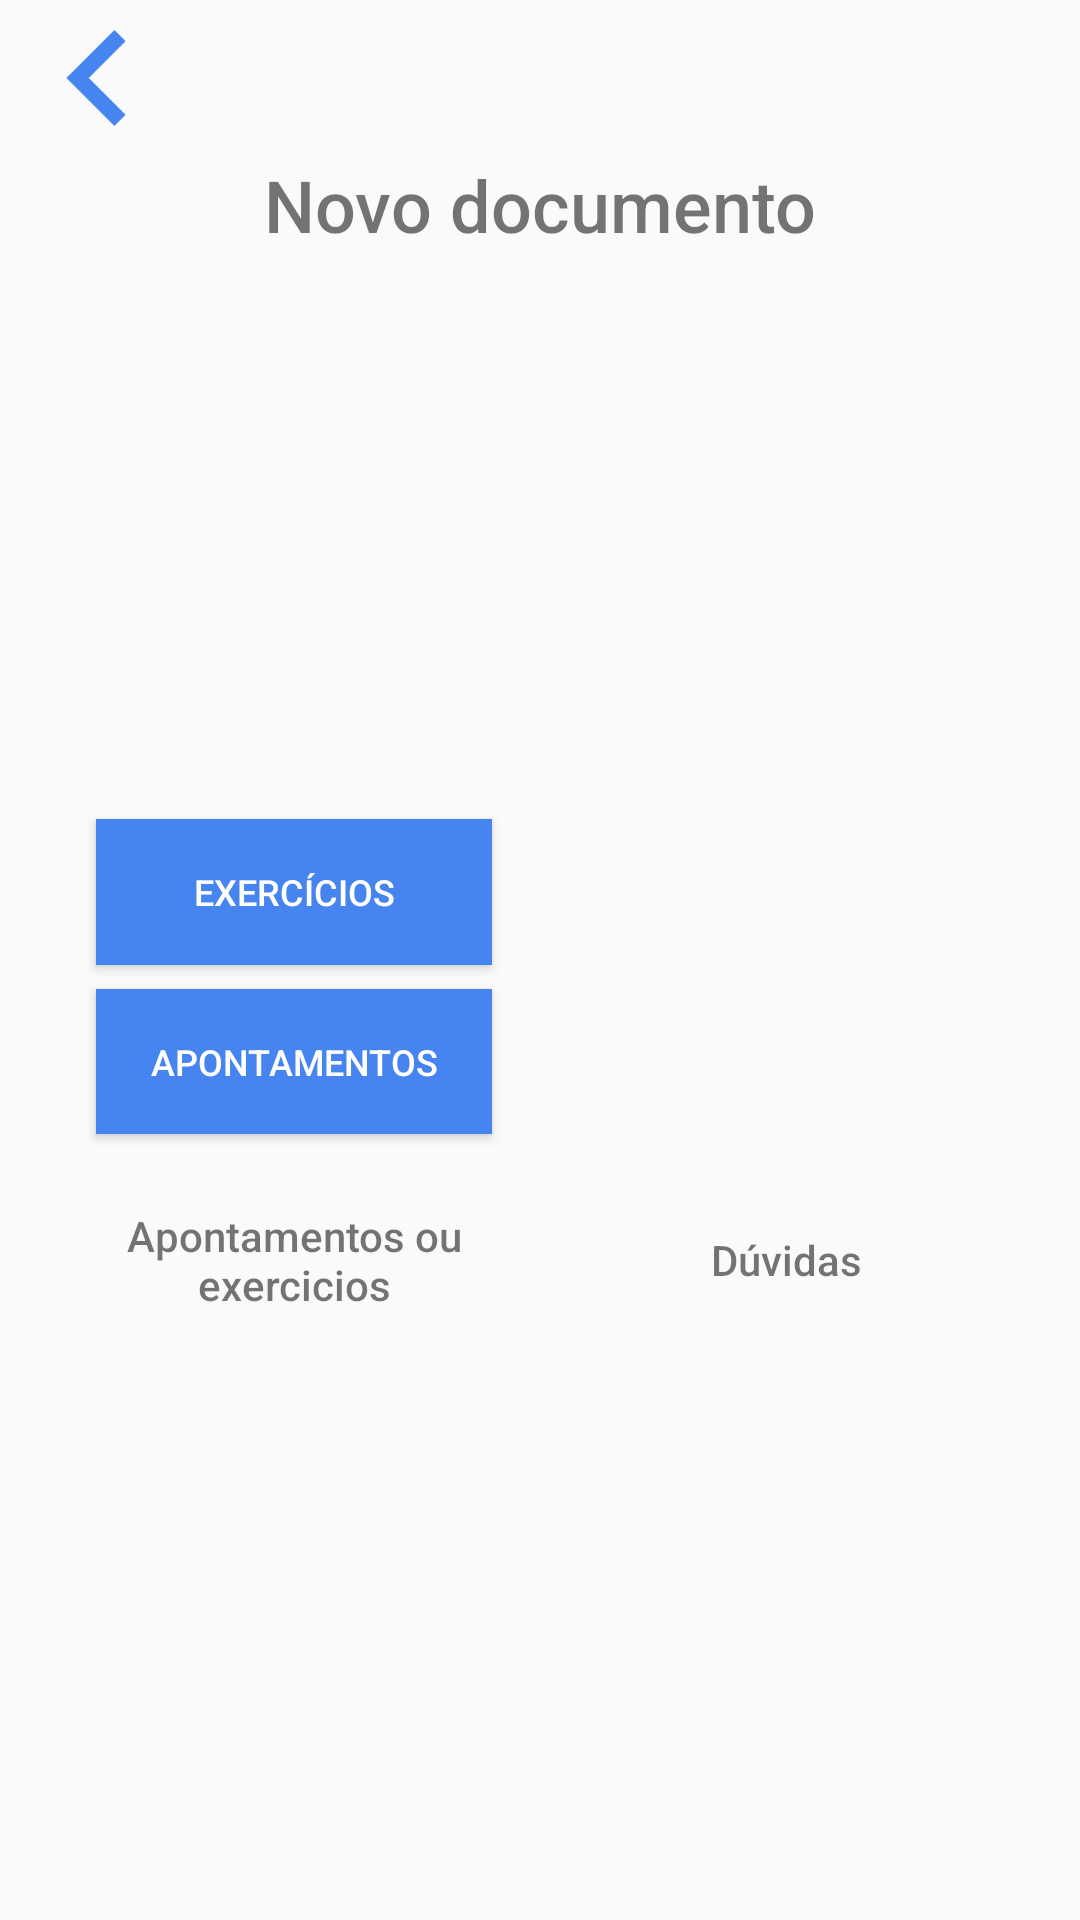

Named icons in this screenshot (1080w x 1920h) and their bounding boxes, (x1, y1, x2, y2):
backbutton: (66, 30, 126, 126)
